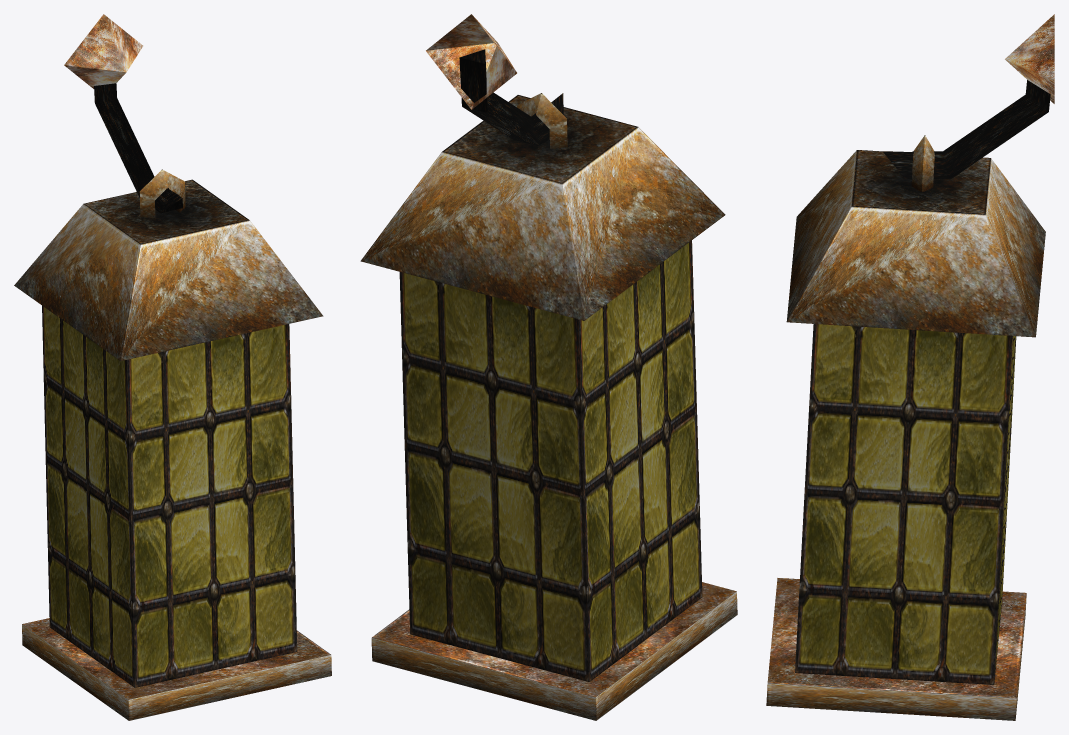
The model's file is mm9_deco_minelantern.glb.
The picture shows the model from 3 angles, left to right: view 1: azimuth 30°, elevation 25°; view 2: azimuth 150°, elevation 25°; view 3: azimuth 270°, elevation 25°; orthographic projection. The views are drawn at different scales.
Parts seen in each view (by area): view 1: Minelantern; view 2: Minelantern; view 3: Minelantern.
Boxes of the visible parts, <box> form: Minelantern: <box>14,14,331,720</box>; Minelantern: <box>360,14,737,720</box>; Minelantern: <box>766,14,1054,720</box>.
Size of the model in its own units: 0.3271 by 0.9024 by 0.3617.
2 materials, 2 textured.
